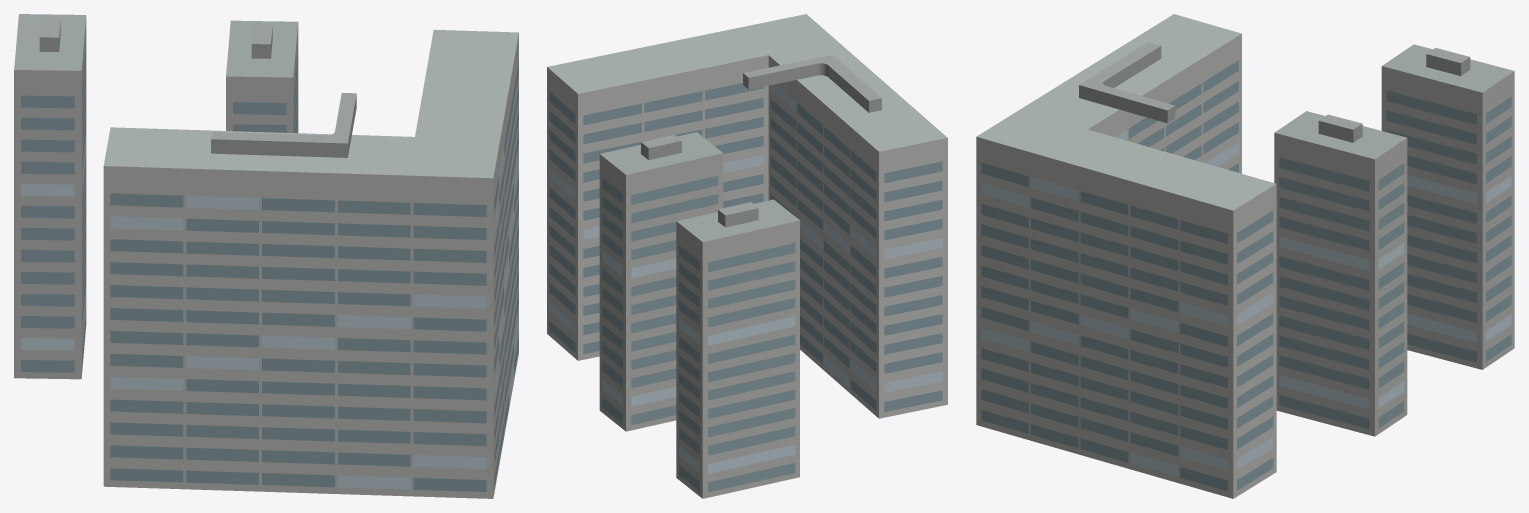
Rendered from apt-a15772902.glb.
3 views of the same model, side by side, from view 1: azimuth 30°, elevation 25°; view 2: azimuth 150°, elevation 25°; view 3: azimuth 270°, elevation 25° (orthographic). The views are drawn at different scales.
Parts seen in each view (by area): view 1: apt-a15772902; view 2: apt-a15772902; view 3: apt-a15772902.
Boxes of the visible parts, bbox=[...] form: apt-a15772902: bbox=[14, 14, 518, 498]; apt-a15772902: bbox=[547, 14, 947, 498]; apt-a15772902: bbox=[976, 14, 1514, 498].
Size of the model in its own units: 62.47 by 44.62 by 72.28.
